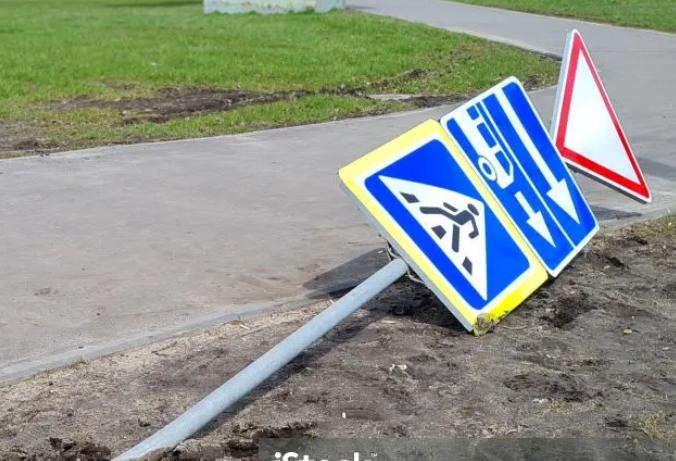road_sign: (339, 120, 547, 334), (442, 78, 597, 275), (552, 29, 650, 202)
